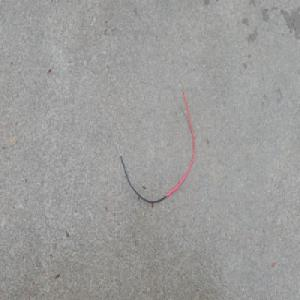Wire: (113, 78, 195, 203)
